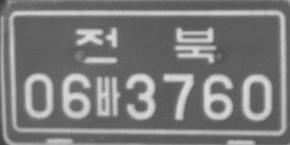0: (241, 73, 273, 122), (23, 71, 54, 119)
3: (126, 72, 157, 120)
6: (61, 72, 92, 119), (202, 72, 233, 119)
7: (162, 72, 194, 120)
바: (95, 75, 121, 116)
전북_D: (75, 25, 216, 63)
